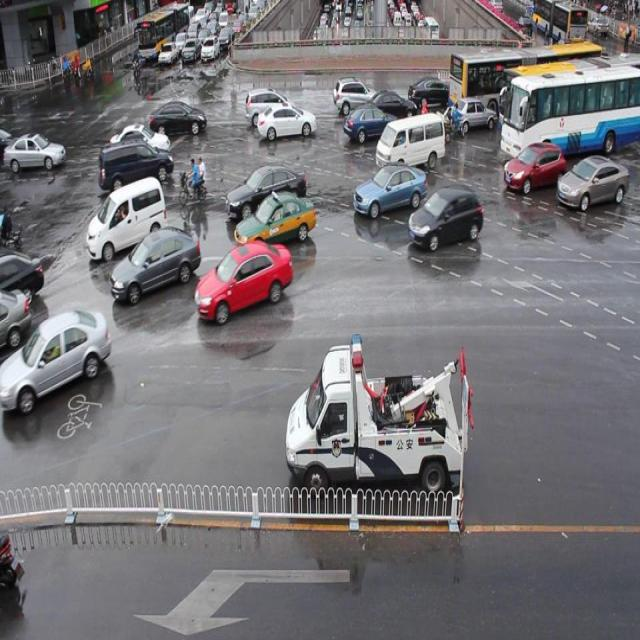bus: (286, 334, 472, 499)
car: (1, 310, 112, 412), (197, 241, 292, 321), (86, 176, 166, 257), (114, 227, 199, 300), (407, 184, 483, 249), (235, 192, 315, 251), (226, 168, 306, 218), (352, 163, 425, 217), (557, 156, 627, 209), (100, 140, 174, 189), (503, 145, 563, 193), (107, 121, 170, 163), (0, 247, 42, 308), (1, 133, 66, 172), (258, 102, 316, 142), (344, 104, 400, 143), (1, 286, 32, 354), (332, 76, 383, 116), (246, 88, 296, 128), (151, 101, 206, 137), (407, 74, 460, 109), (365, 88, 415, 123), (450, 97, 494, 133)
truck: (376, 116, 444, 171)
van: (498, 70, 640, 160), (498, 57, 640, 133), (449, 43, 601, 113)
